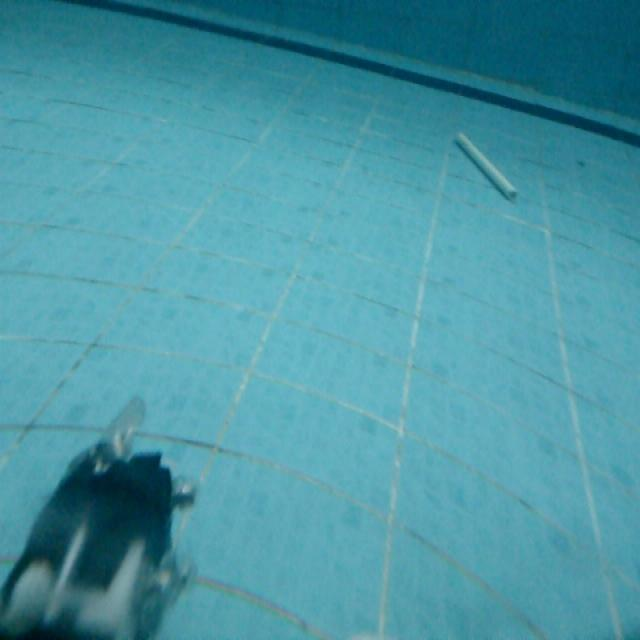Cube: (454, 132, 520, 204)
